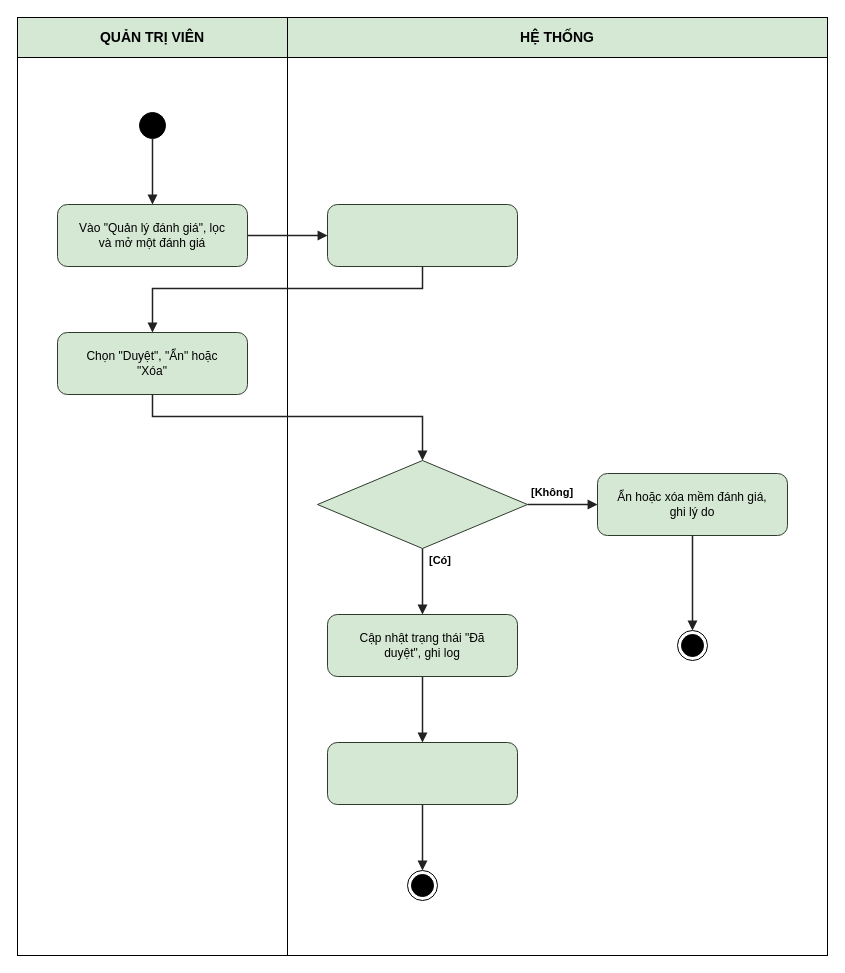
Some shapes in this 845 by 973 pixel diagram are drawn without their labels. The shapes that lost their labels are listed below. From the top down, each one's box as (x1, y1, x2, y2) in pixels, then its label:
(326, 204, 518, 266): Hiển thị nội dung và ảnh đính kèm
(316, 460, 528, 548): Chọn "Duyệt"?
(326, 742, 518, 804): Hiển thị đánh giá trên trang sản phẩm
